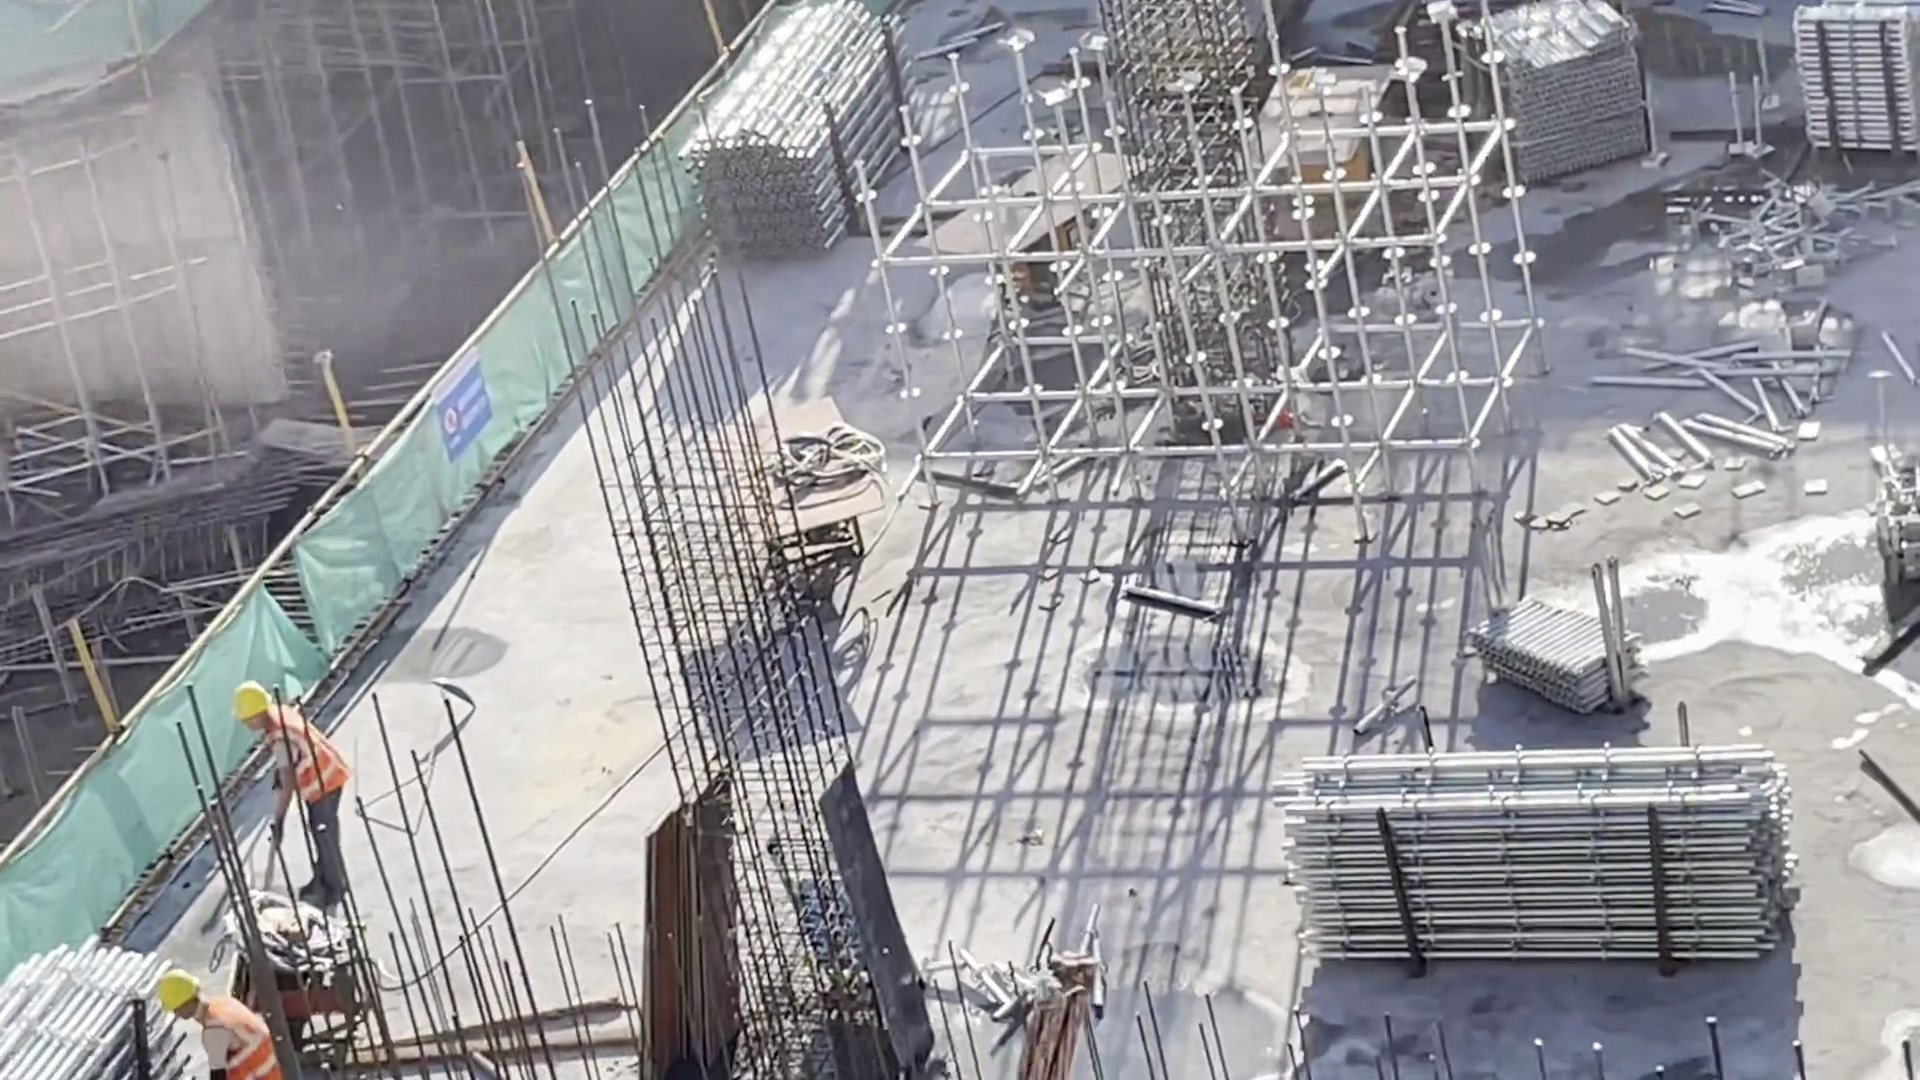cutter: (956, 165, 1147, 364), (1265, 72, 1386, 233), (745, 416, 854, 566), (229, 908, 361, 1018)
helmet: (227, 677, 275, 719), (155, 968, 200, 1007)
person: (218, 676, 366, 912), (144, 965, 287, 1080)
scaffold: (1285, 744, 1807, 972), (705, 1, 910, 272), (1448, 1, 1648, 184), (1476, 568, 1692, 723), (2, 944, 173, 1080), (1800, 7, 1915, 163)
slogan: (442, 372, 495, 453)
vest: (261, 726, 344, 802), (198, 1006, 279, 1080)
